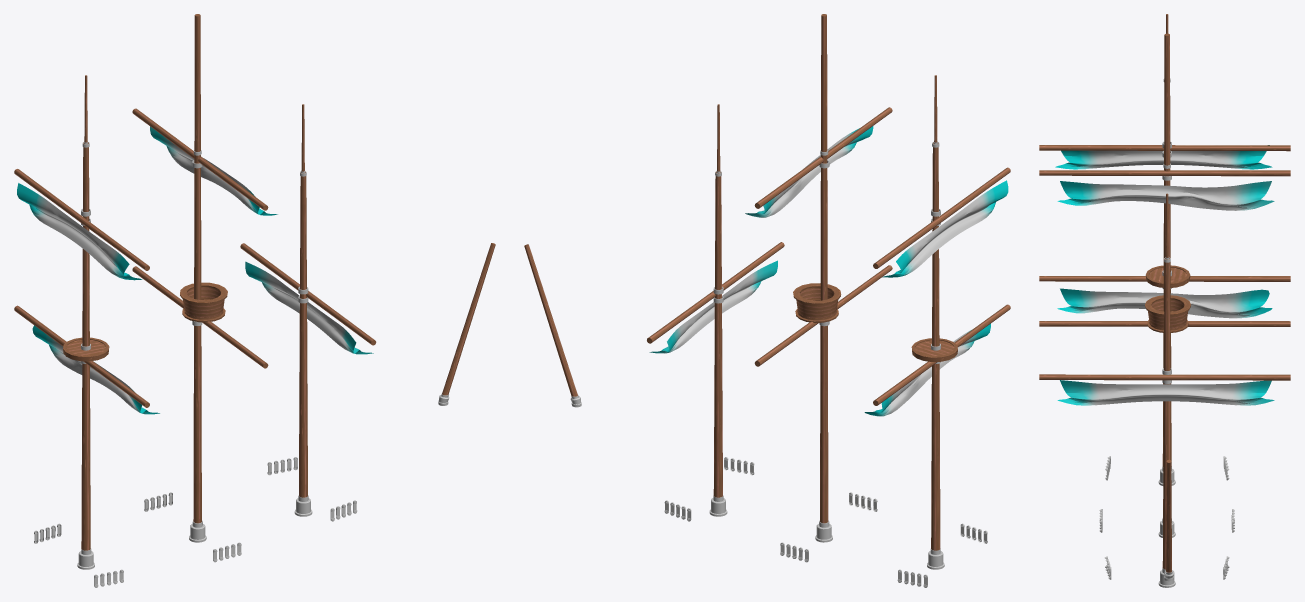
Rendered from SM_Ship_Part_05_a.fbx.
3 renders of one model, left to right at view 1: azimuth 30°, elevation 25°; view 2: azimuth 150°, elevation 25°; view 3: azimuth 270°, elevation 25°, orthographic. The views are drawn at different scales.
Parts seen in each view (by area): view 1: SM_Ship_Part_05_a_LOD0; view 2: SM_Ship_Part_05_a_LOD0; view 3: SM_Ship_Part_05_a_LOD0.
Part boxes in pixels (x1=…): SM_Ship_Part_05_a_LOD0: x1=14, y1=14, x2=495, y2=587; SM_Ship_Part_05_a_LOD0: x1=524, y1=14, x2=1010, y2=587; SM_Ship_Part_05_a_LOD0: x1=1039, y1=14, x2=1290, y2=587.
Bounding box in the file's own units: 3119 × 1644 × 3622.
